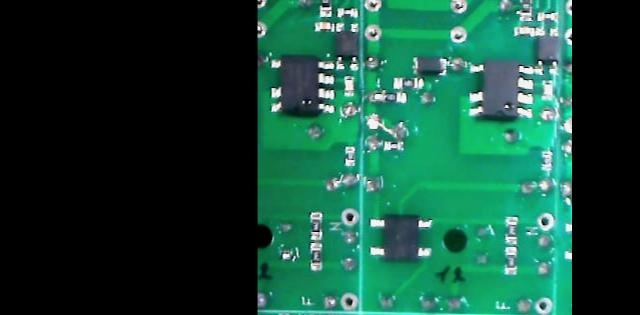chip-capacitor: (344, 73, 356, 96), (513, 24, 535, 36), (314, 19, 336, 31), (541, 78, 553, 99)
chip-resistor: (504, 214, 520, 244), (308, 209, 324, 239), (308, 240, 324, 270), (504, 245, 519, 275), (392, 75, 425, 88), (379, 90, 409, 102), (517, 0, 534, 21), (541, 148, 554, 171), (336, 5, 360, 17), (537, 10, 559, 23), (344, 143, 357, 165), (317, 0, 333, 17), (383, 139, 405, 151)
diode: (411, 55, 449, 75)
ic: (269, 51, 338, 118), (467, 60, 535, 119), (368, 212, 434, 262), (335, 20, 361, 70), (536, 25, 560, 76)
